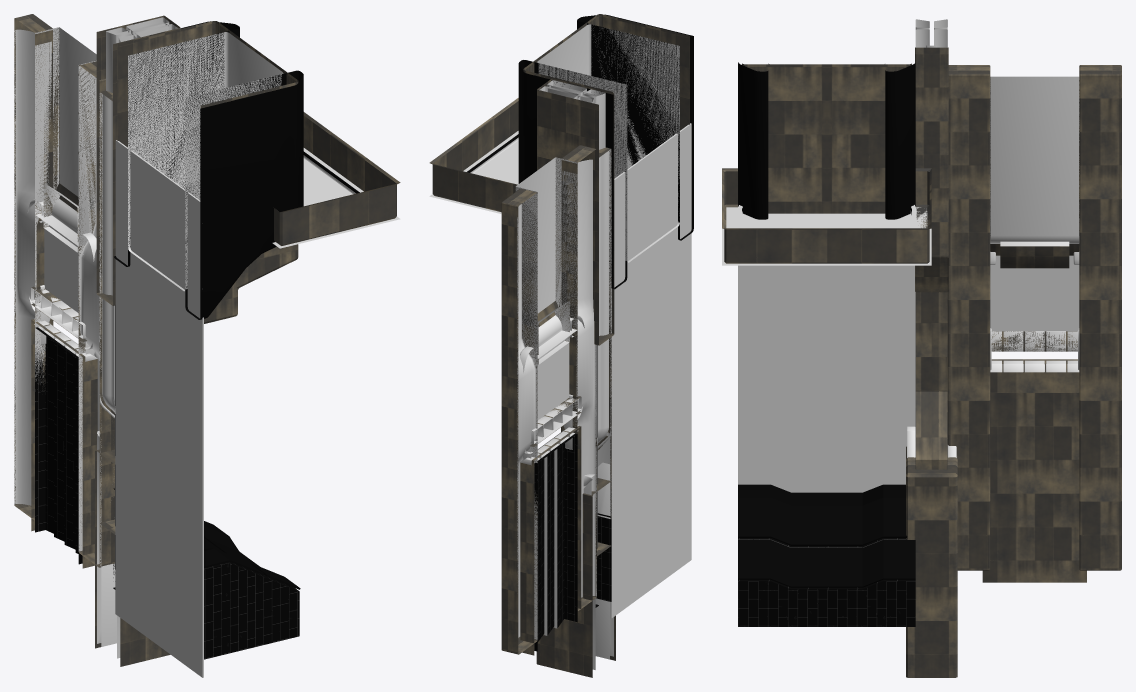
The model's file is Chunks.fbx.
3 renders of one model, left to right at view 1: azimuth 30°, elevation 25°; view 2: azimuth 150°, elevation 25°; view 3: azimuth 270°, elevation 25°, orthographic. The views are drawn at different scales.
Visible parts, largest first — view 1: Style1_PanelExtended, Style1_PanelCeilingCorner, Style1_GatePillarThicc.001, Style1_PanelLower, Style1_PanelCeilingFloor, Style1_PanelUpper, Style2_Ceiling, Style2_PanelCeilingCorner, Style1_GatePillarThicc, Style2_GatePillarThicc, Style2_PanelLower, Style1_GatePillarThin (+9 smaller); view 2: Style1_PanelExtended, Style1_PanelCeilingCorner, Style2_GatePillarThicc.001, Style1_GatePillarThicc, Style1_PanelLower, Style1_PanelUpper, Style2_GateCornerPillar, Style2_Ceiling, Style1_GatePillarThicc.001, Style1_GatePillarThin, Style2_FloorCornerPillar, Style2_PanelLower (+10 smaller); view 3: Style1_PanelExtended, Style1_PanelCeilingFloor, Style2_GatePillarThicc.001, Style2_GatePillarThicc, Style2_PanelLower, Style2_PanelCeilingCorner, Style1_PanelUpper, Style2_FloorCornerPillar, Style1_PanelCeilingCorner, Style2_Ceiling, Style2_GateCornerPillar, Style1_Panel Number (+7 smaller).
Part boxes in pixels (x1,y1,x2,y2): Style1_PanelExtended: [115, 140, 203, 677]; Style1_PanelCeilingCorner: [114, 21, 303, 319]; Style1_GatePillarThicc.001: [14, 29, 51, 505]; Style1_PanelLower: [34, 318, 97, 564]; Style1_PanelCeilingFloor: [204, 521, 300, 659]; Style1_PanelUpper: [35, 27, 96, 252]; Style2_Ceiling: [274, 112, 400, 245]; Style2_PanelCeilingCorner: [117, 21, 298, 323]; Style1_GatePillarThicc: [78, 78, 101, 566]; Style2_GatePillarThicc: [78, 61, 114, 567]; Style2_PanelLower: [31, 319, 97, 568]; Style1_GatePillarThin: [100, 93, 115, 568]; Style1_PanelExtended: [610, 123, 691, 618]; Style1_PanelCeilingCorner: [518, 14, 693, 289]; Style2_GatePillarThicc.001: [501, 188, 537, 654]; Style1_GatePillarThicc: [562, 159, 596, 597]; Style1_PanelLower: [520, 425, 578, 651]; Style1_PanelUpper: [515, 157, 577, 364]; Style2_GateCornerPillar: [537, 78, 614, 345]; Style2_Ceiling: [429, 98, 518, 212]; Style1_GatePillarThicc.001: [517, 204, 537, 639]; Style1_GatePillarThin: [595, 149, 611, 587]; Style2_FloorCornerPillar: [536, 478, 615, 677]; Style2_PanelLower: [520, 426, 581, 655]; Style1_PanelExtended: [738, 265, 915, 492]; Style1_PanelCeilingFloor: [738, 484, 915, 626]; Style2_GatePillarThicc.001: [1079, 65, 1121, 570]; Style2_GatePillarThicc: [947, 65, 990, 570]; Style2_PanelLower: [982, 359, 1086, 582]; Style2_PanelCeilingCorner: [742, 63, 911, 213]; Style1_PanelUpper: [990, 76, 1079, 246]; Style2_FloorCornerPillar: [906, 446, 957, 677]; Style1_PanelCeilingCorner: [738, 62, 915, 219]; Style2_Ceiling: [722, 168, 931, 263]; Style2_GateCornerPillar: [915, 47, 948, 292]; Style1_Panel Number: [990, 255, 1079, 331].
Bounding box in the file's own units: 12778 × 39255 × 22500.
